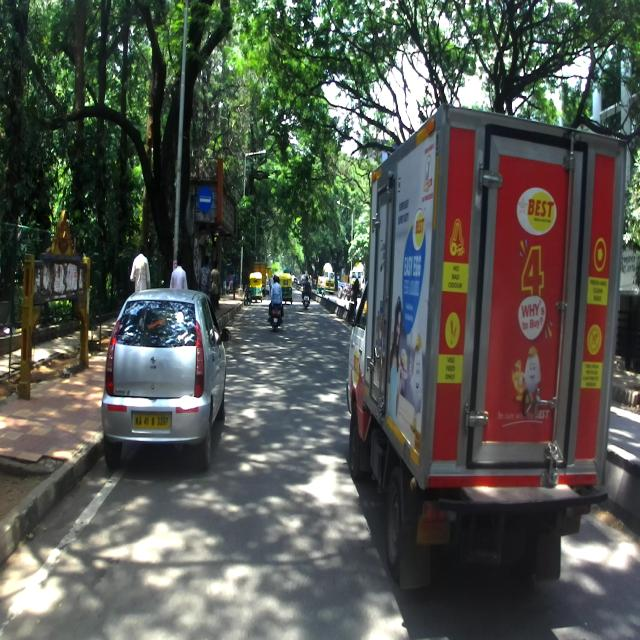car ahead at: (105, 297, 219, 468)
motorcycle ahead at: (270, 275, 283, 328)
person ahead at: (125, 233, 151, 294), (169, 245, 190, 294)
truck ahead at: (346, 102, 622, 578)
